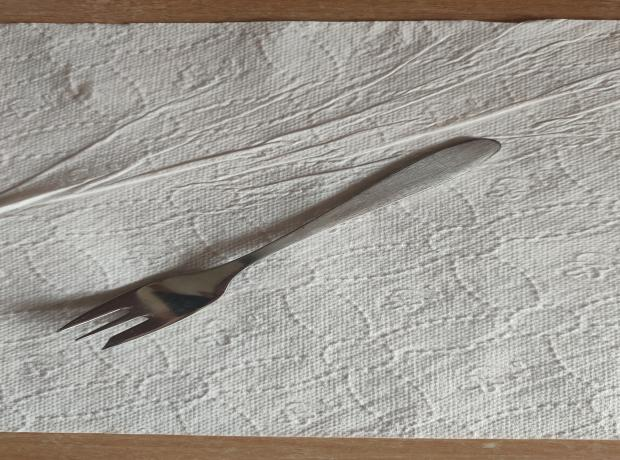metal: (53, 137, 506, 351)
